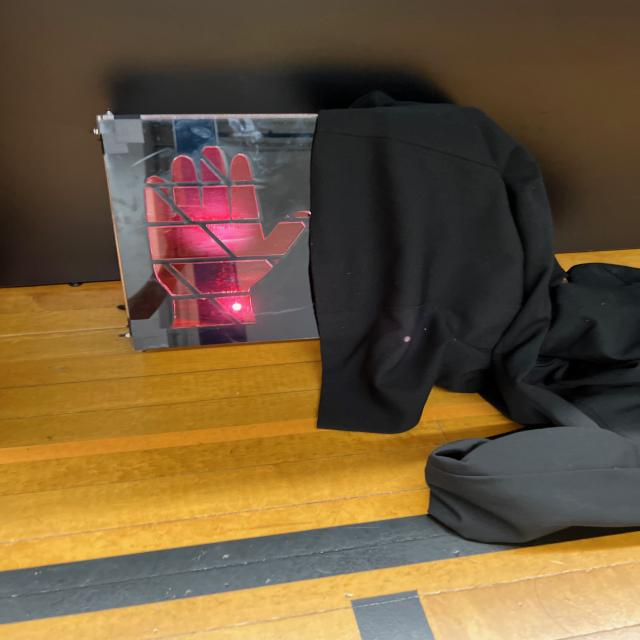stop: (106, 121, 314, 339)
